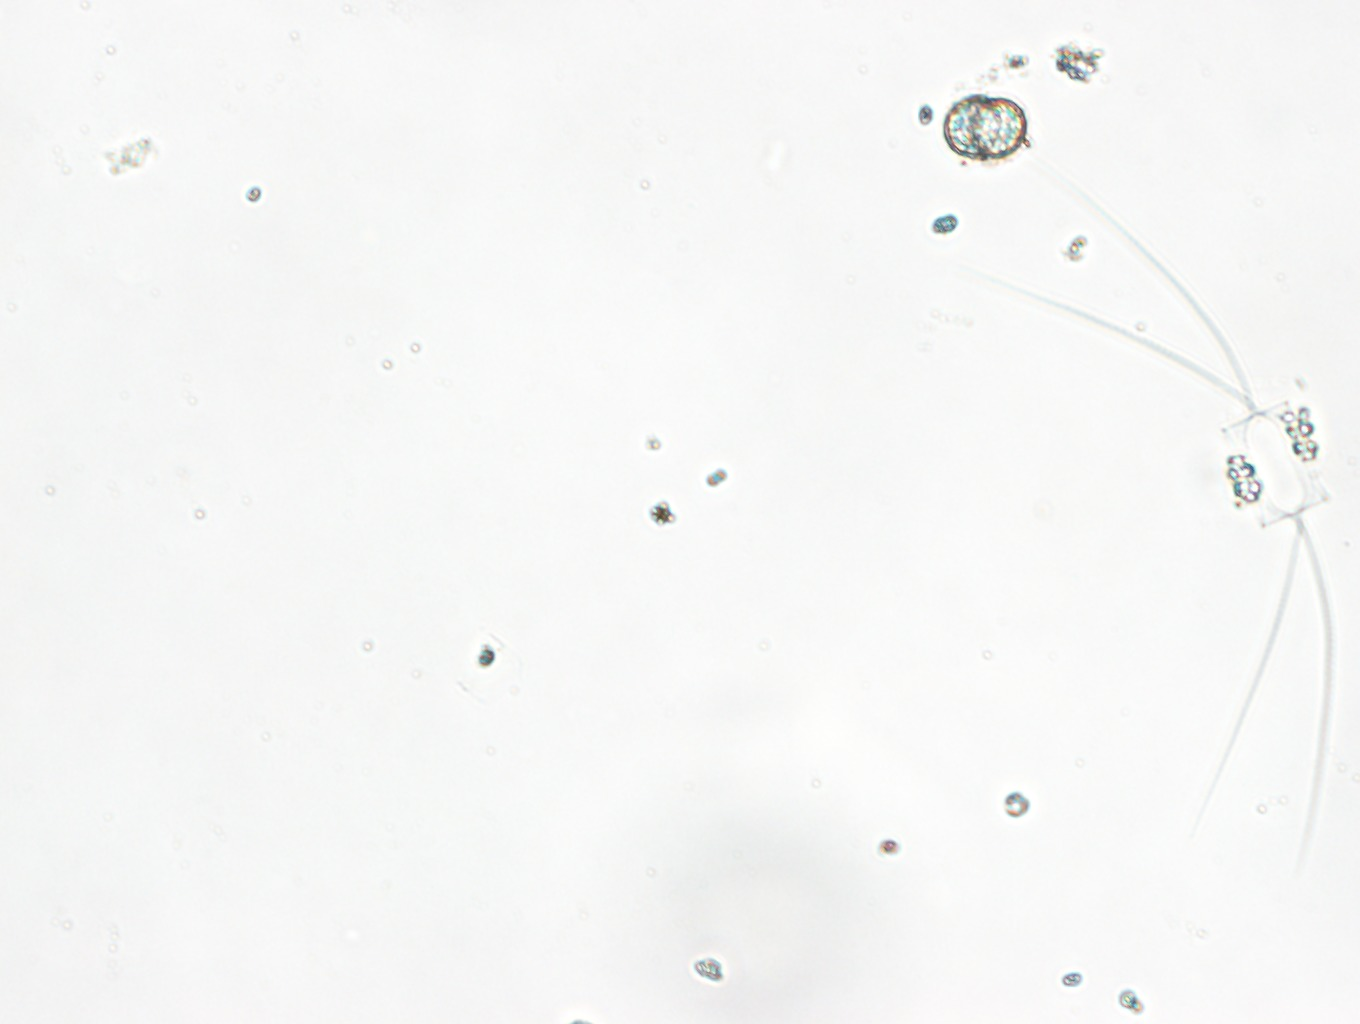chaetoceros: (971, 160, 1333, 866)
